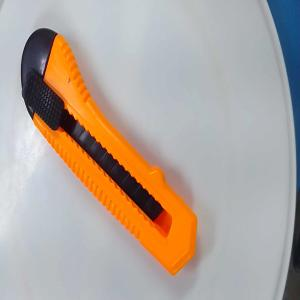estilete: (20, 26, 198, 276)
